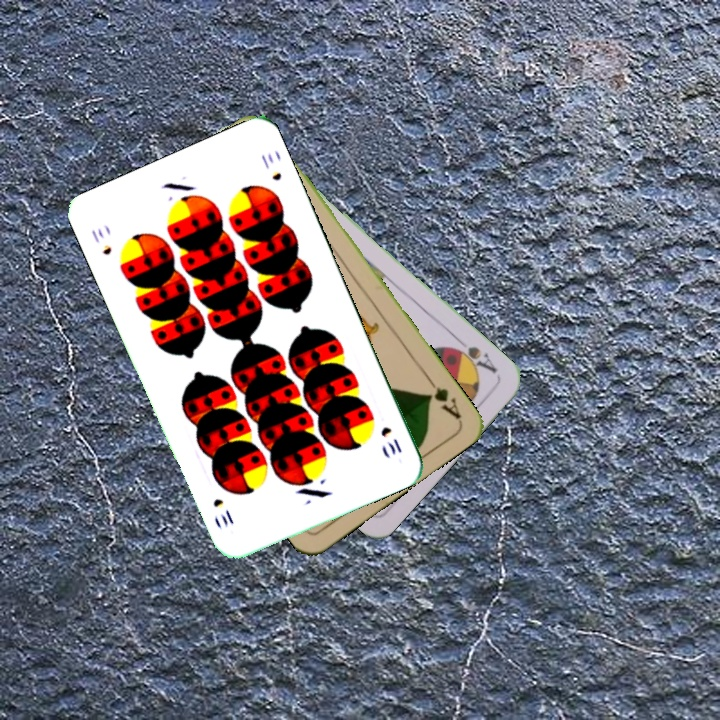GA: (422, 371, 464, 422)
S10: (377, 422, 404, 458), (87, 224, 115, 258)
SA: (446, 334, 500, 376)
